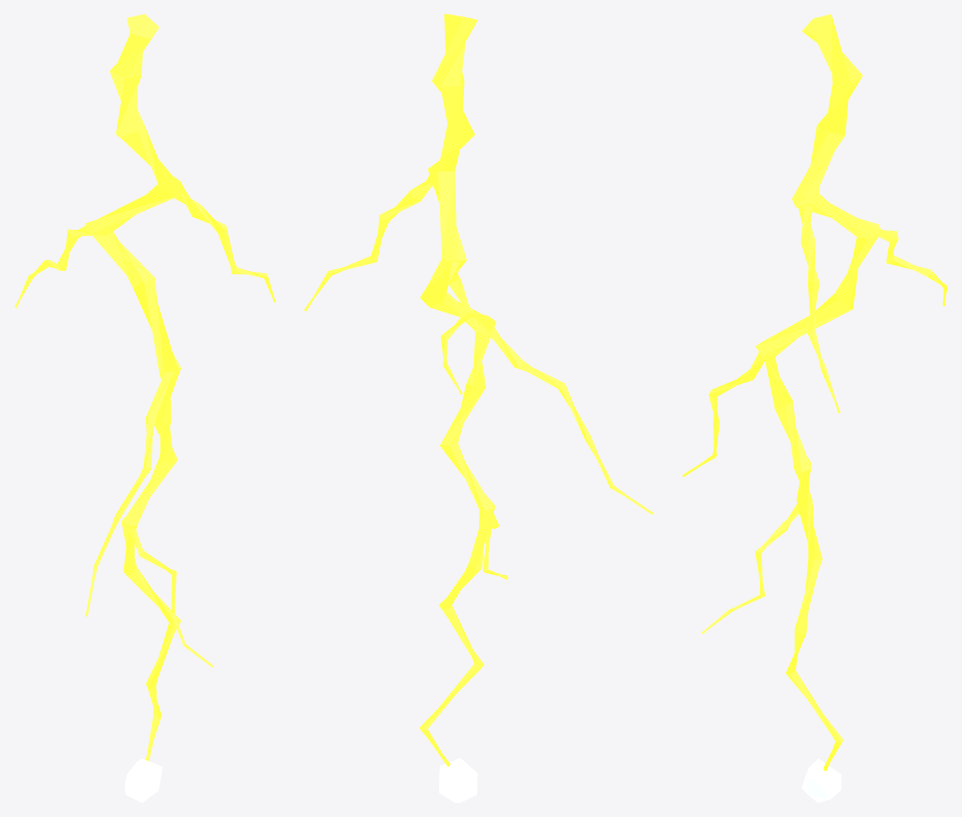
The model's file is Storm_Bolt.fbx.
3 views of the same model, side by side, from view 1: azimuth 30°, elevation 25°; view 2: azimuth 150°, elevation 25°; view 3: azimuth 270°, elevation 25° (orthographic).
Visible parts, largest first — view 1: Storm_Bolt; view 2: Storm_Bolt; view 3: Storm_Bolt.
Part boxes in pixels (x1,y1,x2,y2): Storm_Bolt: (14,14,275,802); Storm_Bolt: (304,14,653,802); Storm_Bolt: (682,14,947,802).
Size of the model in its own units: 2.22 by 6.21 by 1.9.
